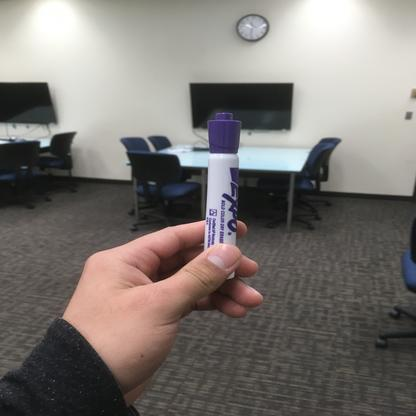expo_marker: (198, 105, 262, 280)
